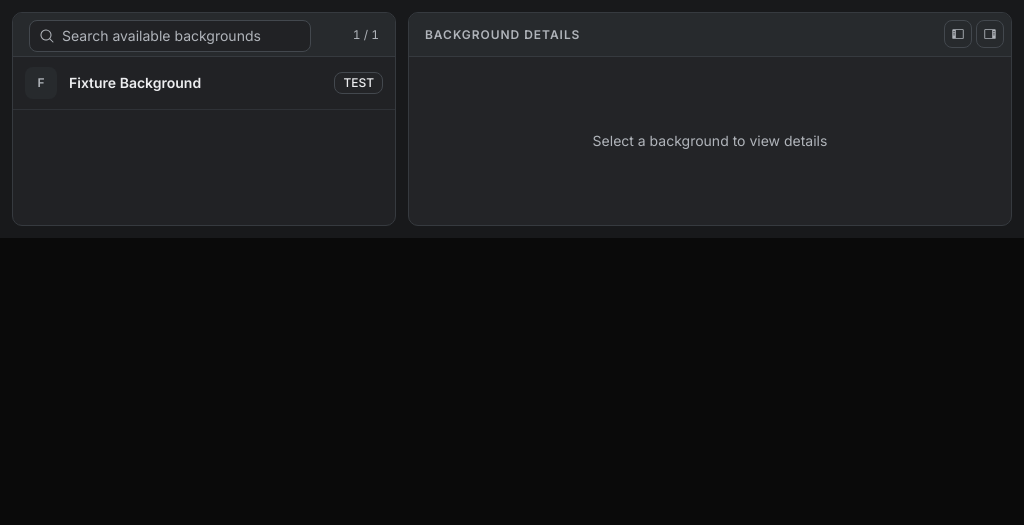
Test case: BackgroundPage › reports a missing fixed feat instead of configuring a different source
Click the button "F Fixture Background". click: (174, 83)
box: [25,67,322,99]
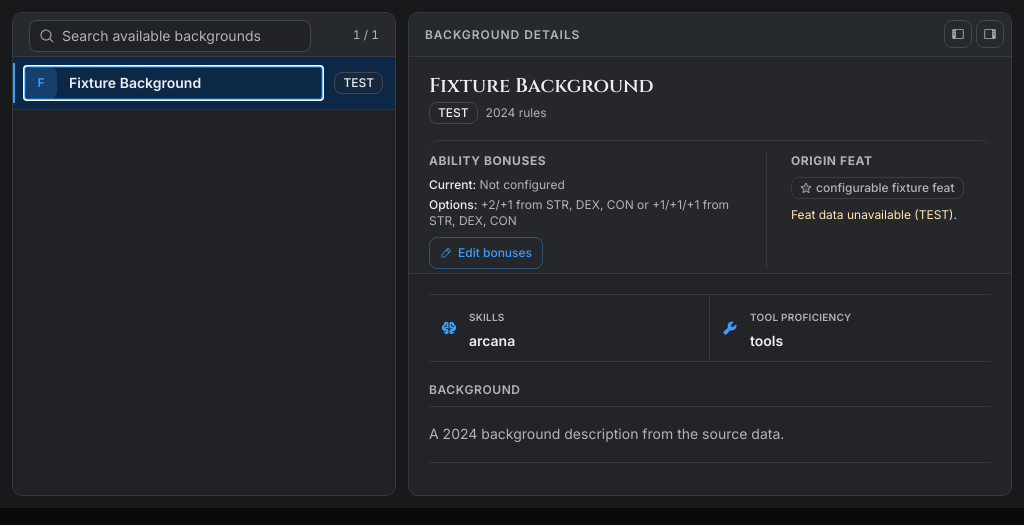
Check: the 1st text "TEST" is shown, box [334,72,383,94]
Check: the text "Feat data unavailable (TEST)." is shown, box [791,207,957,223]
